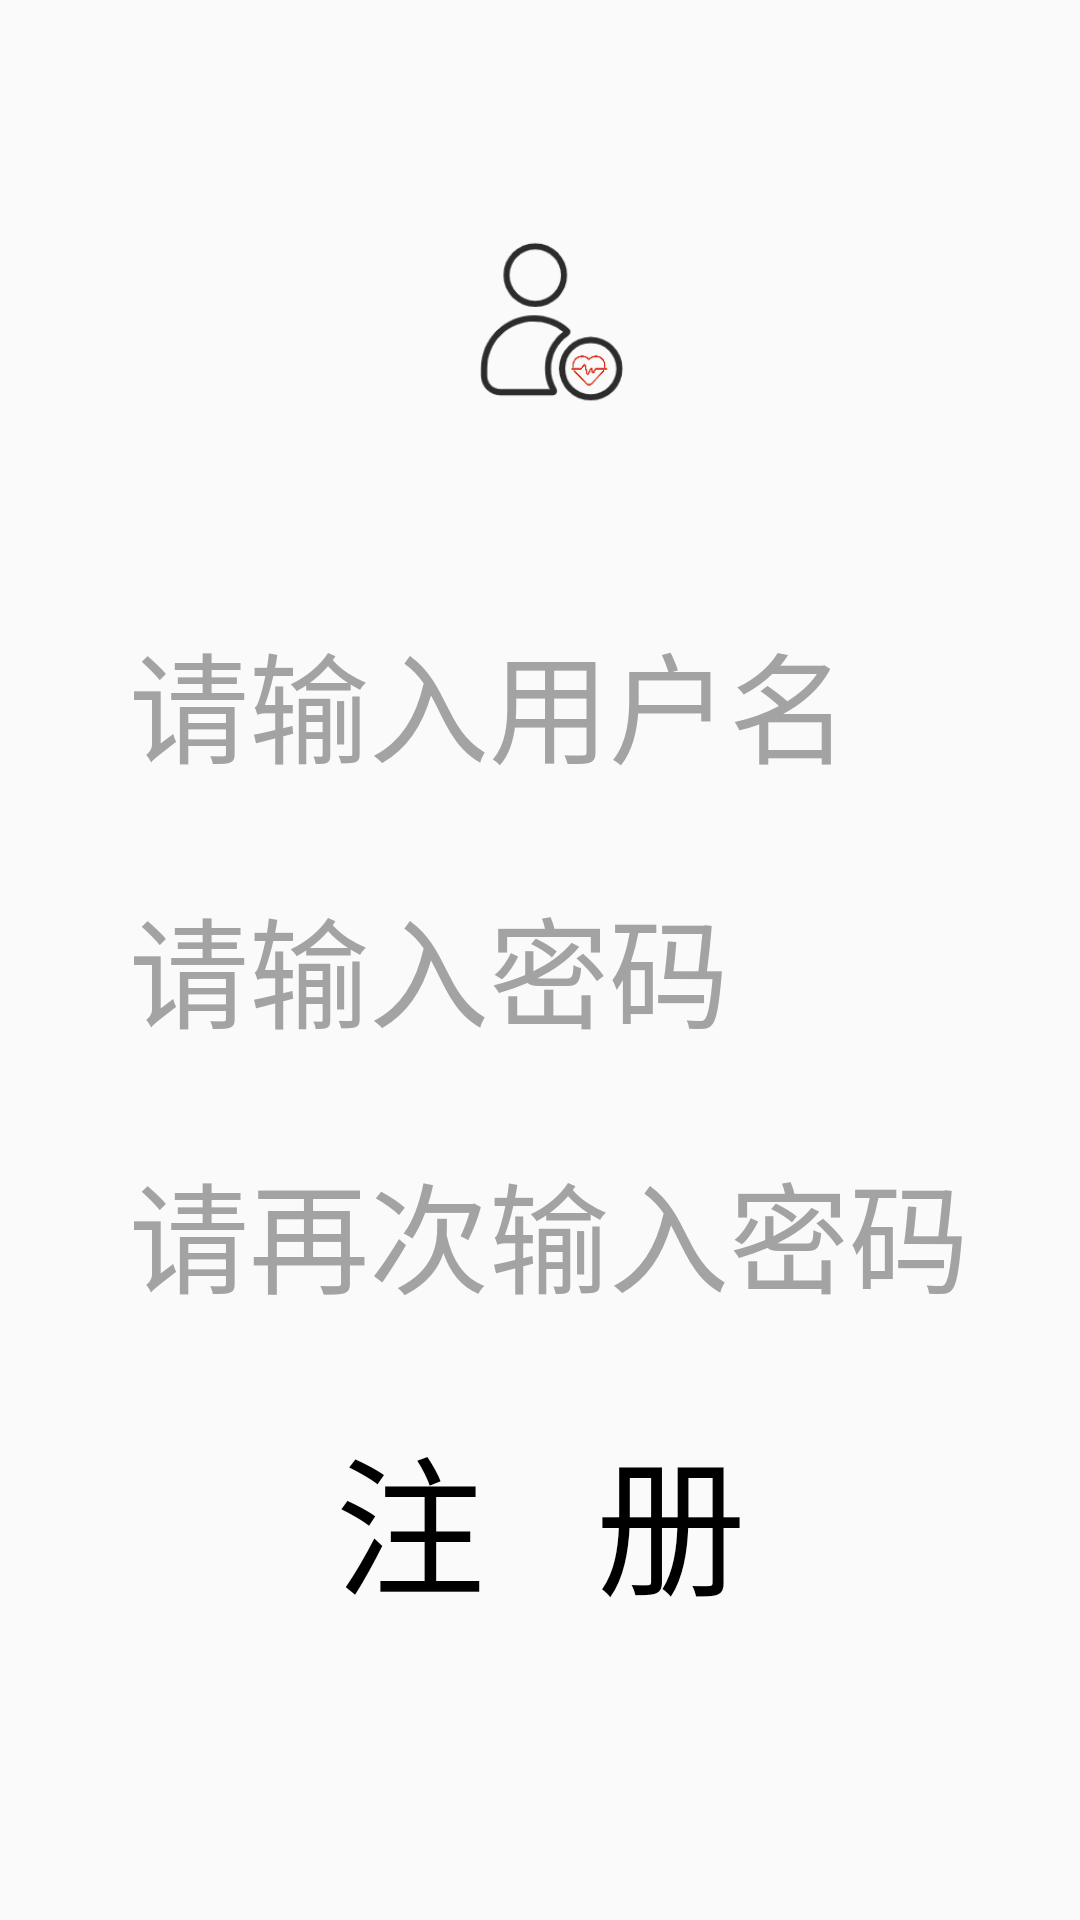

Screen size 1080x1920. Icon name, then its center in pixels as (x,y):
account: (551,322)
